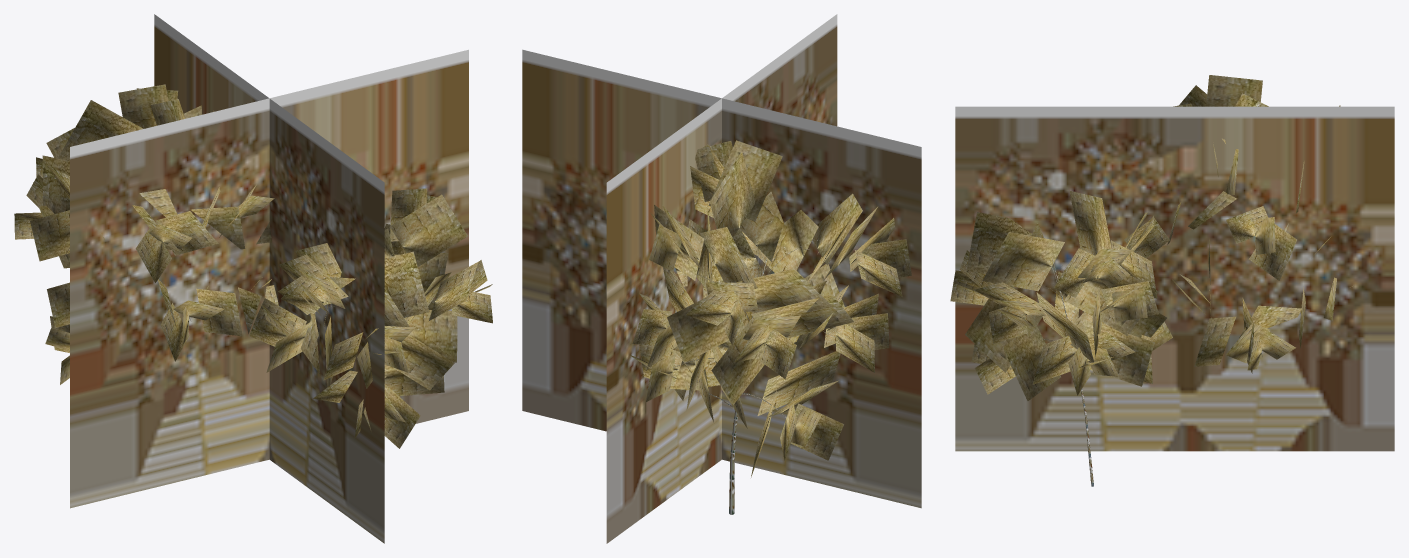
Rendered from Shrub1-4C.fbx.
3 views of the same model, side by side, from view 1: azimuth 30°, elevation 25°; view 2: azimuth 150°, elevation 25°; view 3: azimuth 270°, elevation 25° (orthographic). The views are drawn at different scales.
Parts seen in each view (by area): view 1: Billboard-Shrub1-4C, Shrub1-4C_LOD0; view 2: Billboard-Shrub1-4C, Shrub1-4C_LOD0; view 3: Billboard-Shrub1-4C, Shrub1-4C_LOD0.
Boxes of the visible parts, box(x1,y1,x2,y2) form: Billboard-Shrub1-4C: box(70, 14, 468, 543); Shrub1-4C_LOD0: box(14, 84, 492, 448); Billboard-Shrub1-4C: box(522, 14, 921, 543); Shrub1-4C_LOD0: box(629, 140, 911, 514); Billboard-Shrub1-4C: box(955, 106, 1394, 451); Shrub1-4C_LOD0: box(950, 75, 1352, 486).
Size of what is drawn, in the model's own units: 414 by 374 by 411.
